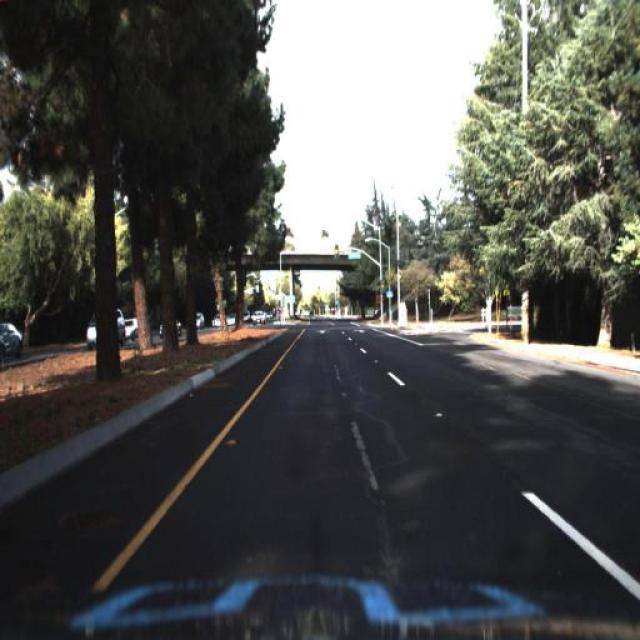car: (86, 305, 126, 350), (1, 319, 24, 363), (248, 310, 268, 332), (193, 302, 204, 328), (209, 316, 222, 333)
trafficLight-YellowLeft: (331, 236, 340, 266)
